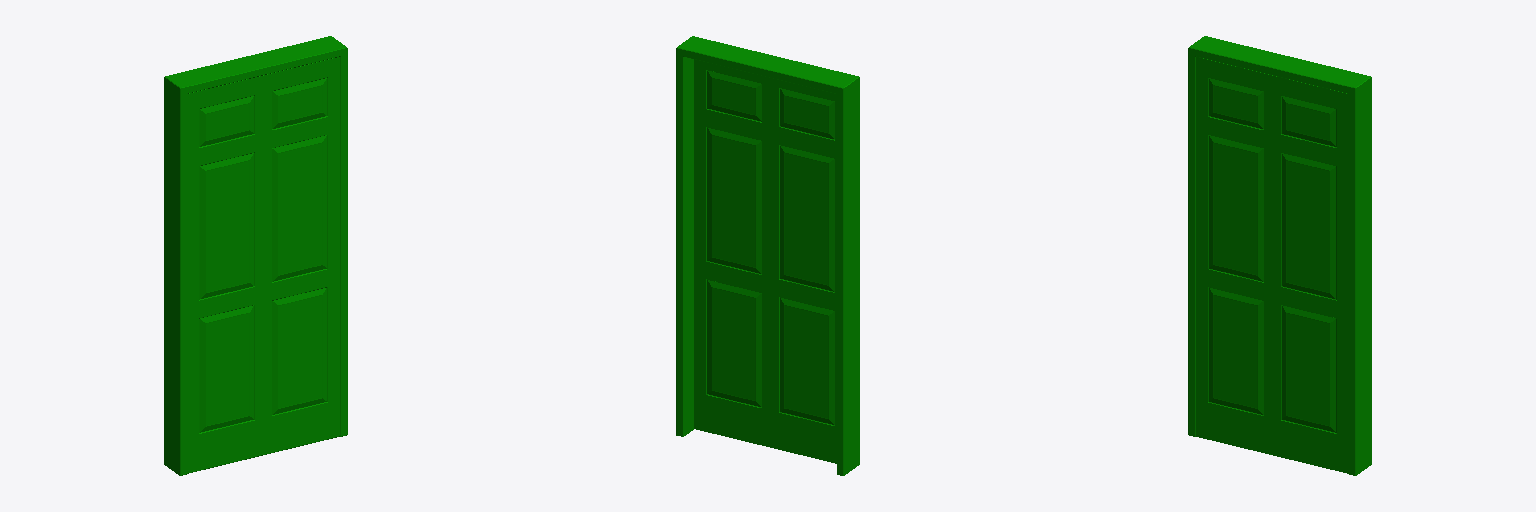
Rendered from door.obj.
3 renders of one model, left to right at view 1: azimuth 30°, elevation 25°; view 2: azimuth 150°, elevation 25°; view 3: azimuth 330°, elevation 25°, orthographic.
Parts seen in each view (by area): view 1: StandardDoor1_Mesh.060, StandardDoorFrame1_Mesh.064; view 2: StandardDoor1_Mesh.060, StandardDoorFrame1_Mesh.064; view 3: StandardDoor1_Mesh.060, StandardDoorFrame1_Mesh.064.
Part boxes in pixels (left/top/right/bottom): StandardDoor1_Mesh.060: left=187, top=57, right=339, bottom=473; StandardDoorFrame1_Mesh.064: left=164, top=36, right=347, bottom=475; StandardDoor1_Mesh.060: left=694, top=59, right=836, bottom=463; StandardDoorFrame1_Mesh.064: left=676, top=36, right=859, bottom=475; StandardDoor1_Mesh.060: left=1196, top=57, right=1348, bottom=473; StandardDoorFrame1_Mesh.064: left=1188, top=36, right=1371, bottom=475.
Size of the model in its own units: 0.9207 by 2.04 by 0.1548.